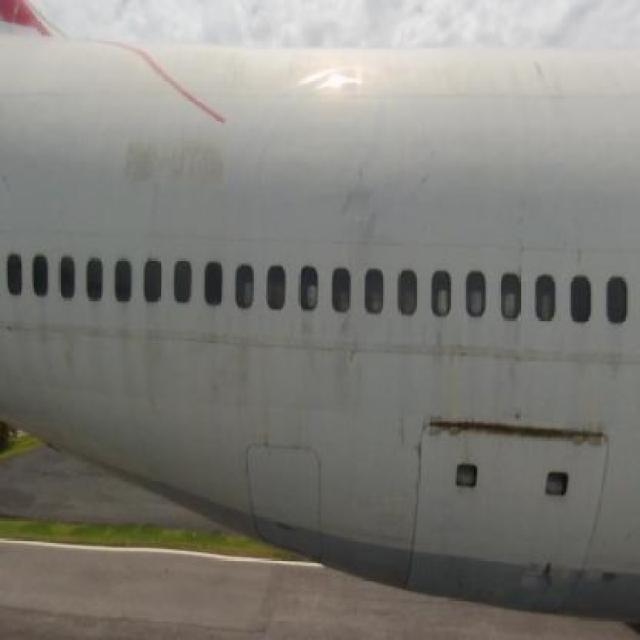Scartch: (421, 400, 613, 465), (122, 123, 230, 203)
